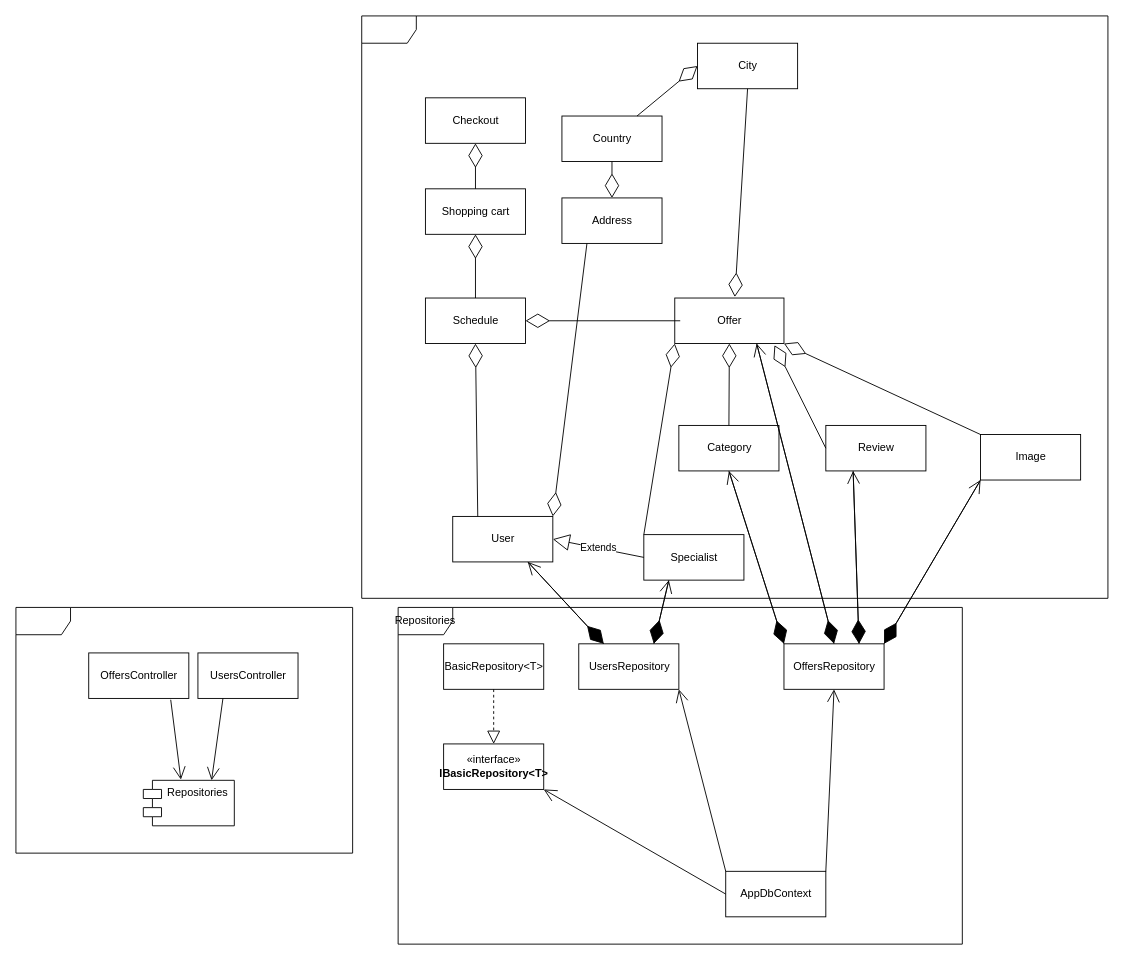
Image size: 1124x960. Some labels were removed from this diagram. The shapes that lost their labels are listed below. From the top down, each one's box as (x1, y1, x2, y2) in pixels, then its label:
(361, 15, 1108, 598): Models
(15, 607, 353, 853): Controllers
